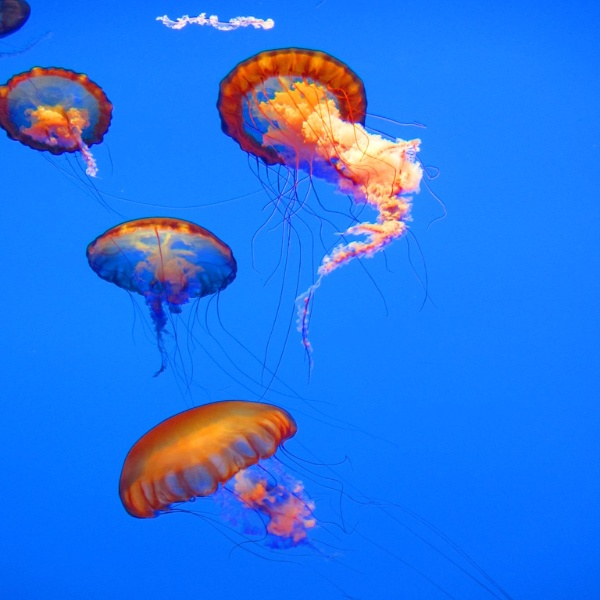Jellyfish: (213, 42, 450, 383), (122, 401, 511, 599), (81, 216, 378, 431), (0, 69, 255, 219), (0, 0, 48, 57)
